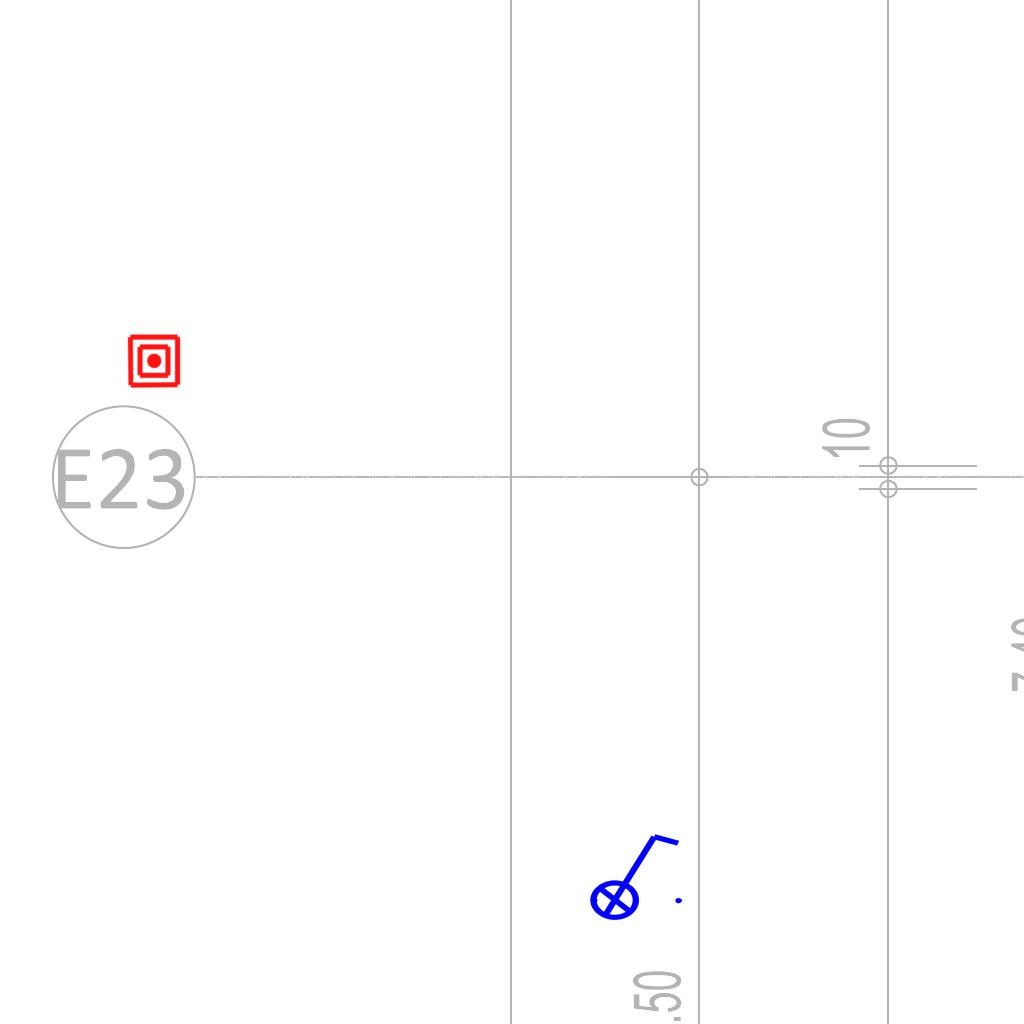Ausschalter_beleuchtet: (576, 826, 688, 922)
NAM-Nichtautomatischer_Melder: (126, 333, 182, 389)
